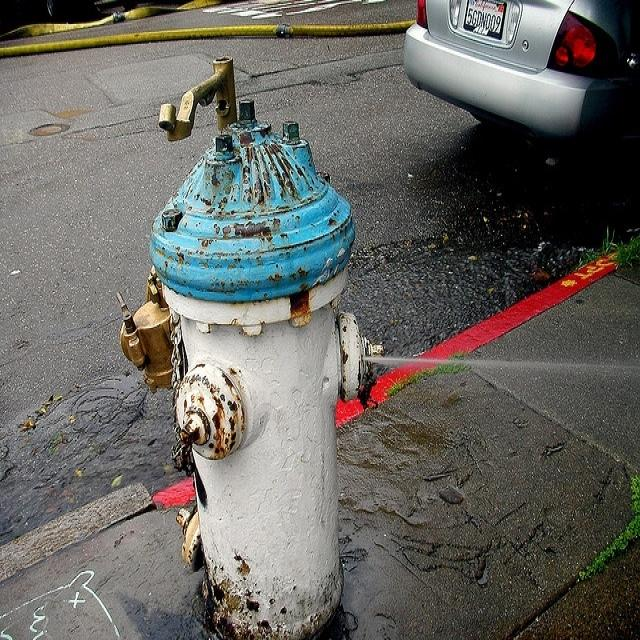fire_hydrant: (127, 50, 386, 627)
